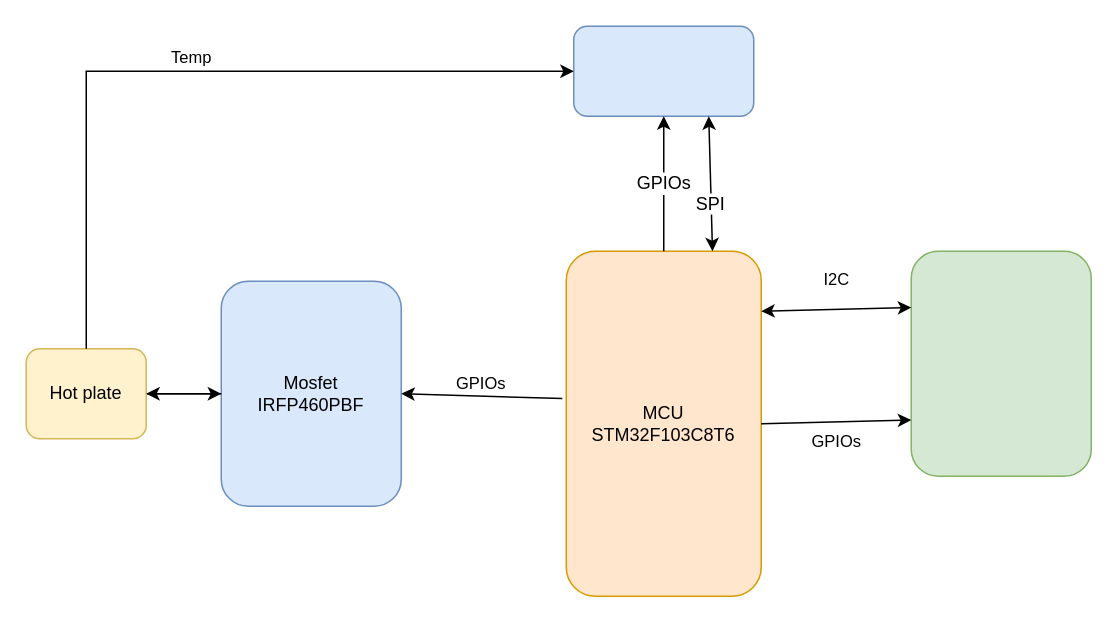
Some shapes in this 1118 by 623 pixel diagram are drawn without their labels. Each missing label, with the centre of its shape:
Screen Oled 1.3" Driver SH1106: (1000,363)
Temperature sensor Pt100 max31865: (663,70)
